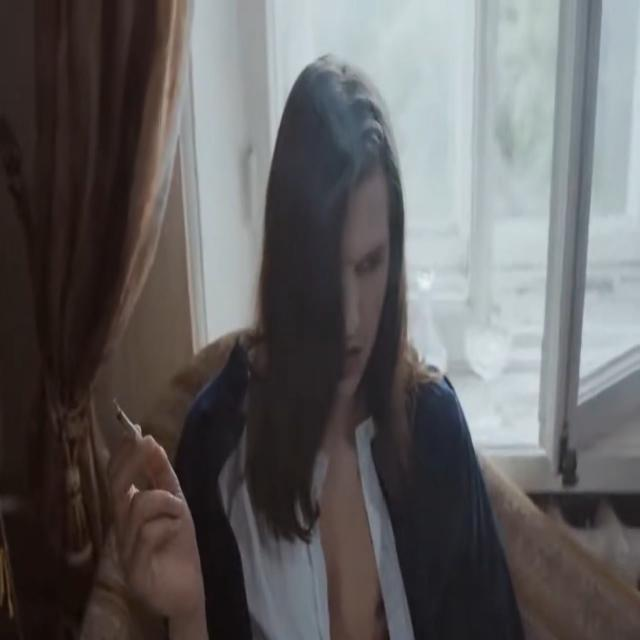Курение: (112, 393, 150, 454)
